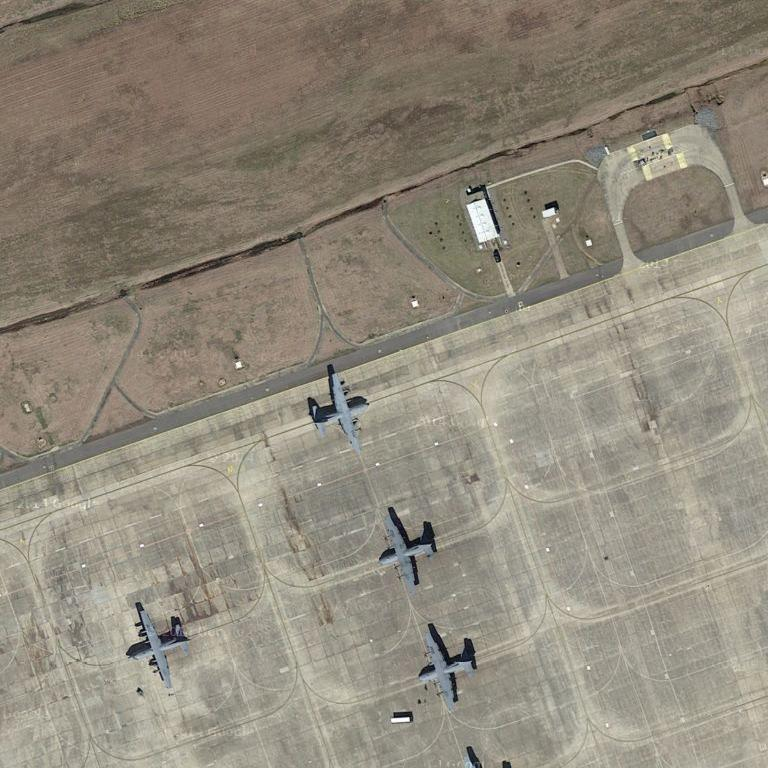C-130: (128, 604, 192, 687), (418, 625, 481, 706), (375, 509, 439, 587), (310, 369, 371, 446)
